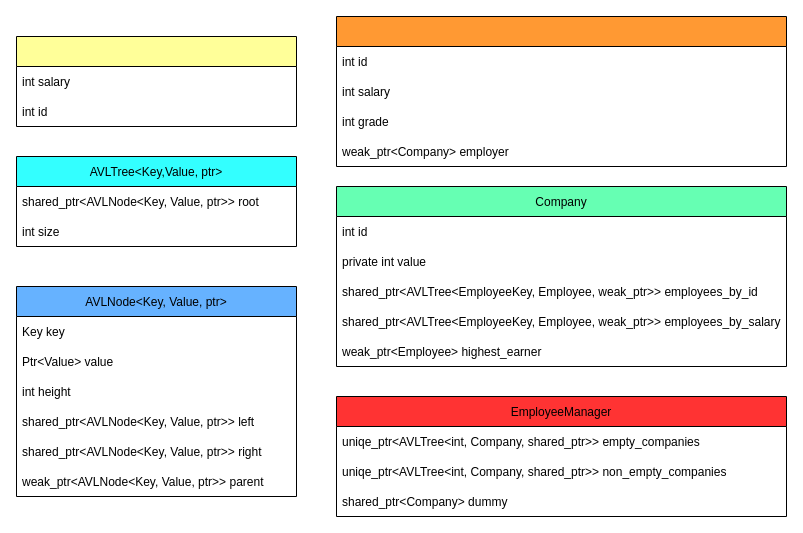
This 803x533 diagram has some shape labels left out. Here are the shapes that lost their labels. From the top down, the box of each, then its label:
(16, 36, 296, 126): EmployeeKey
(336, 16, 786, 166): Employee
